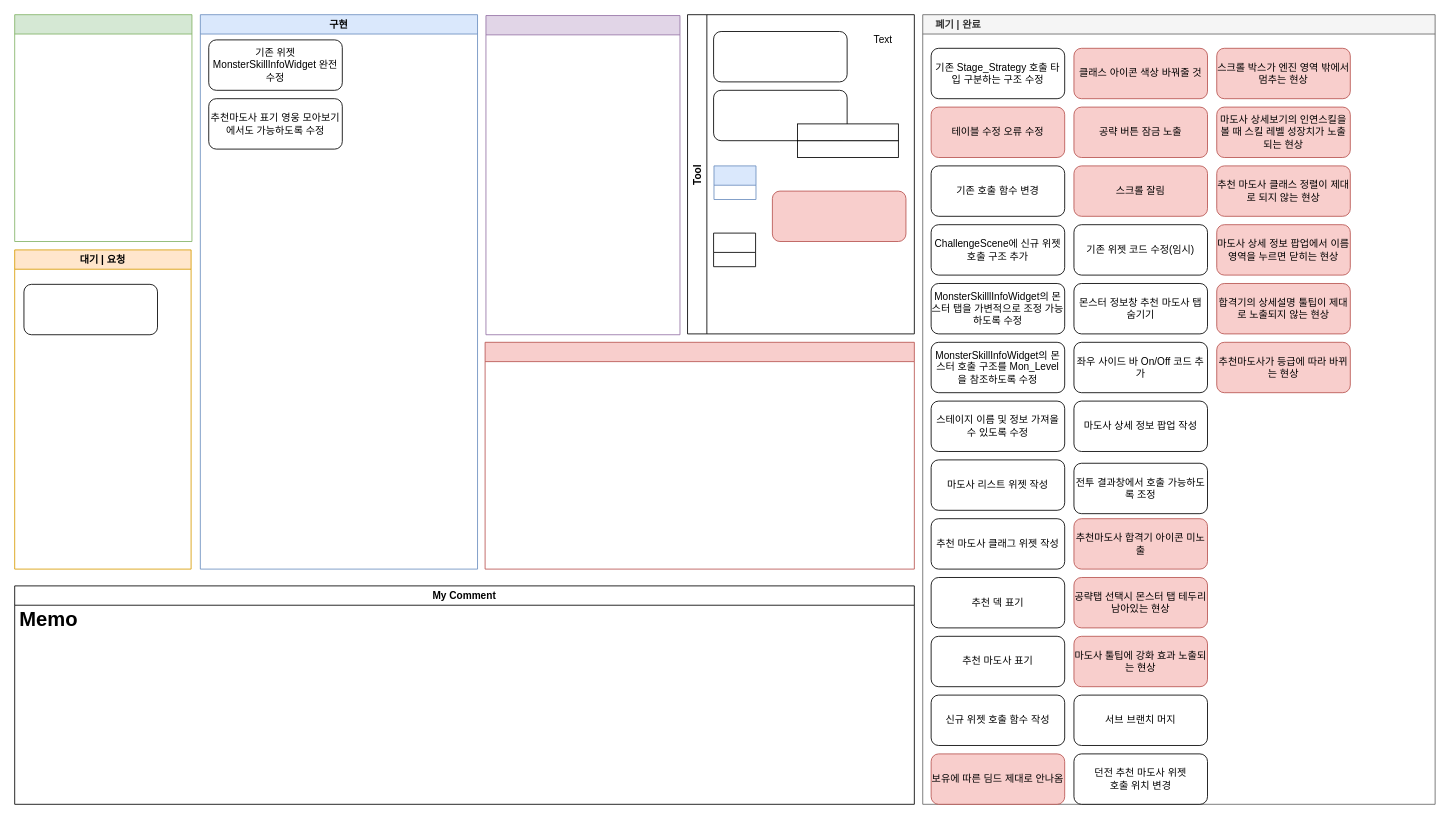
Image size: 1450x819. Some labels were removed from this diagram. The shapes that lost their labels are listed below. From the top down, each one's centre as x and y in pixels, then its label:
At point 103,128: "분석 | 논의".
At point 582,175: "고려".
At point 90,309: "전투 결과창에서도 추천 마도사 확인 가능하도록 수정".
At point 699,455: "에러 | 수정".
